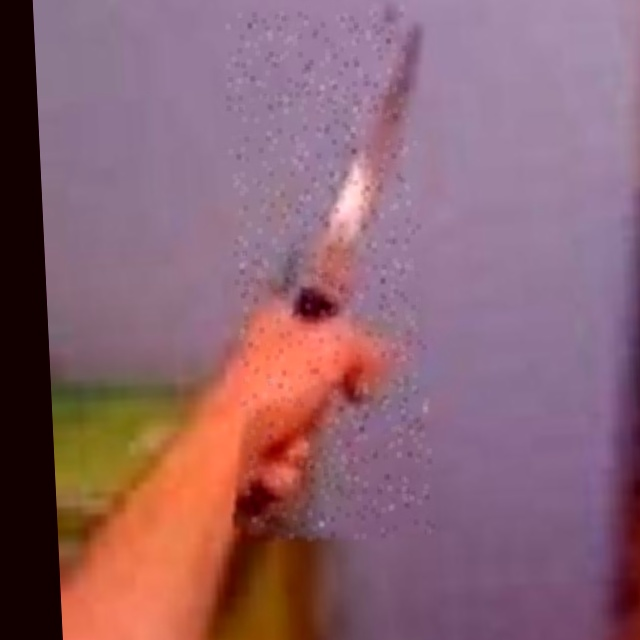Sharp-Object: (224, 7, 434, 543)
